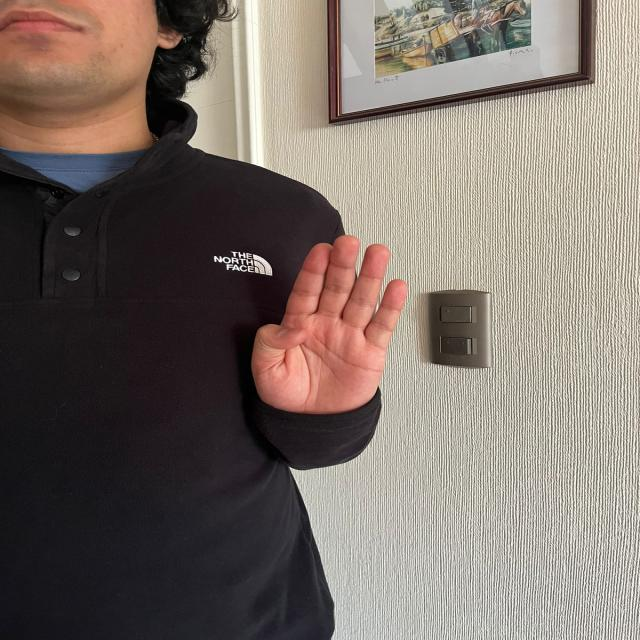B: (247, 227, 412, 423)
